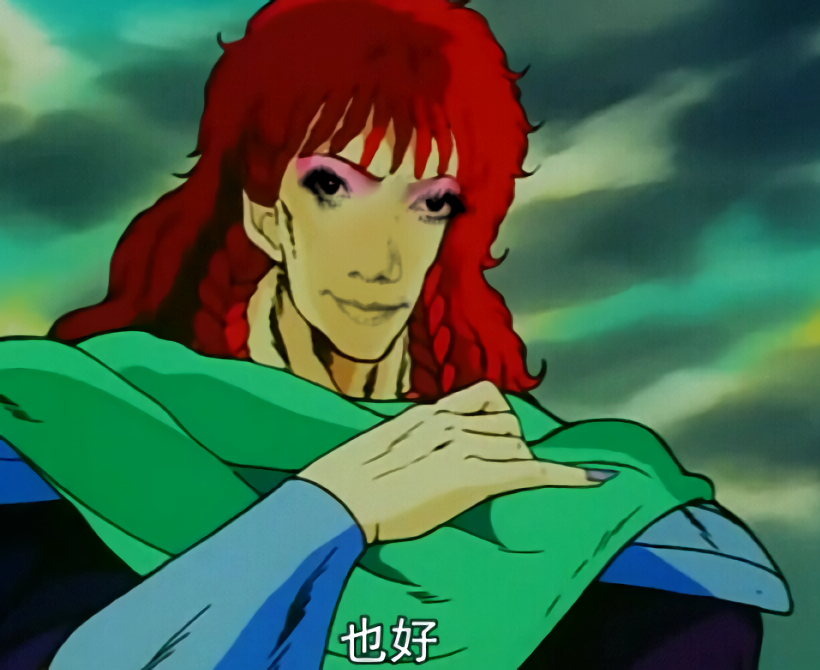dragon: (294, 160, 473, 330)
